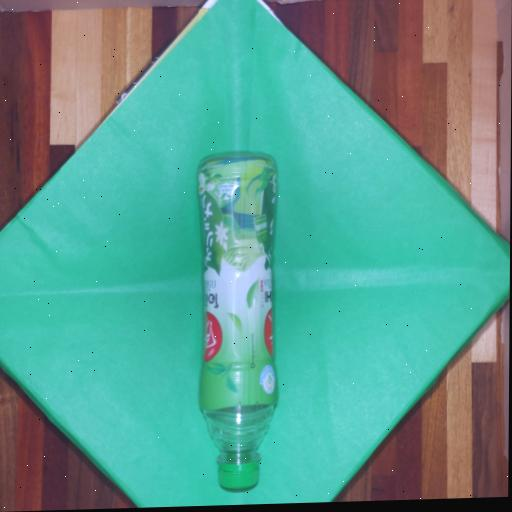bottle: (182, 141, 294, 502)
